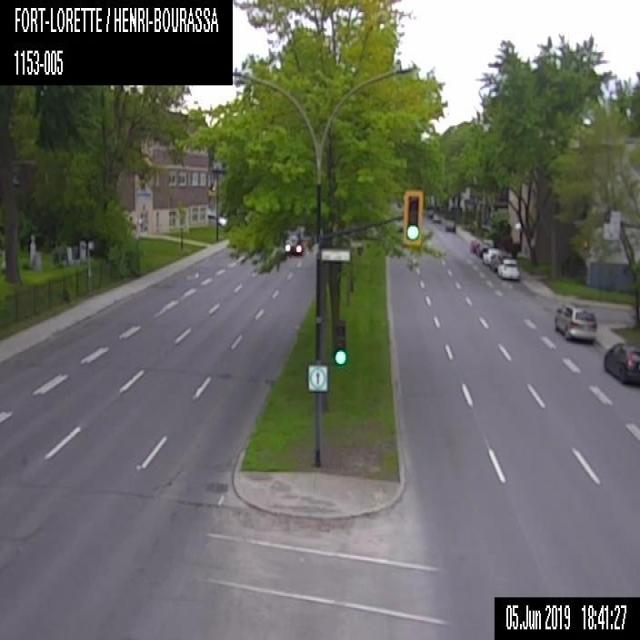vehicle: (552, 298, 596, 342), (603, 337, 639, 387), (497, 258, 520, 280), (284, 231, 305, 253), (491, 251, 512, 270), (482, 245, 501, 263), (206, 211, 223, 225), (475, 240, 491, 254), (443, 218, 456, 230), (470, 239, 480, 252), (432, 212, 441, 222)
